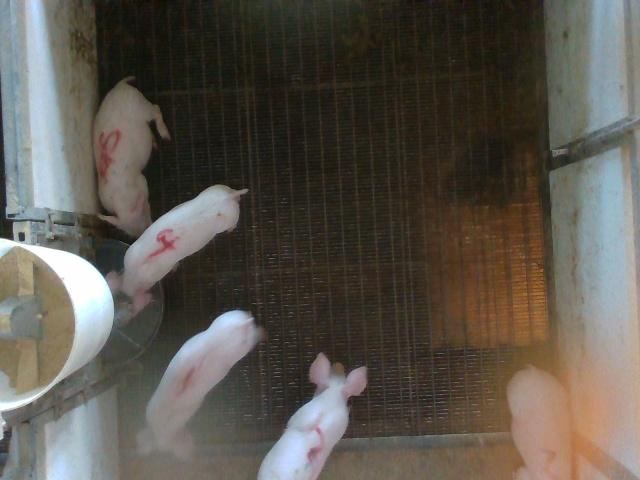pig-1: (138, 312, 262, 459)
pig-3: (258, 352, 368, 479)
pig-4: (106, 185, 246, 313)
pig-5: (92, 76, 170, 236)
